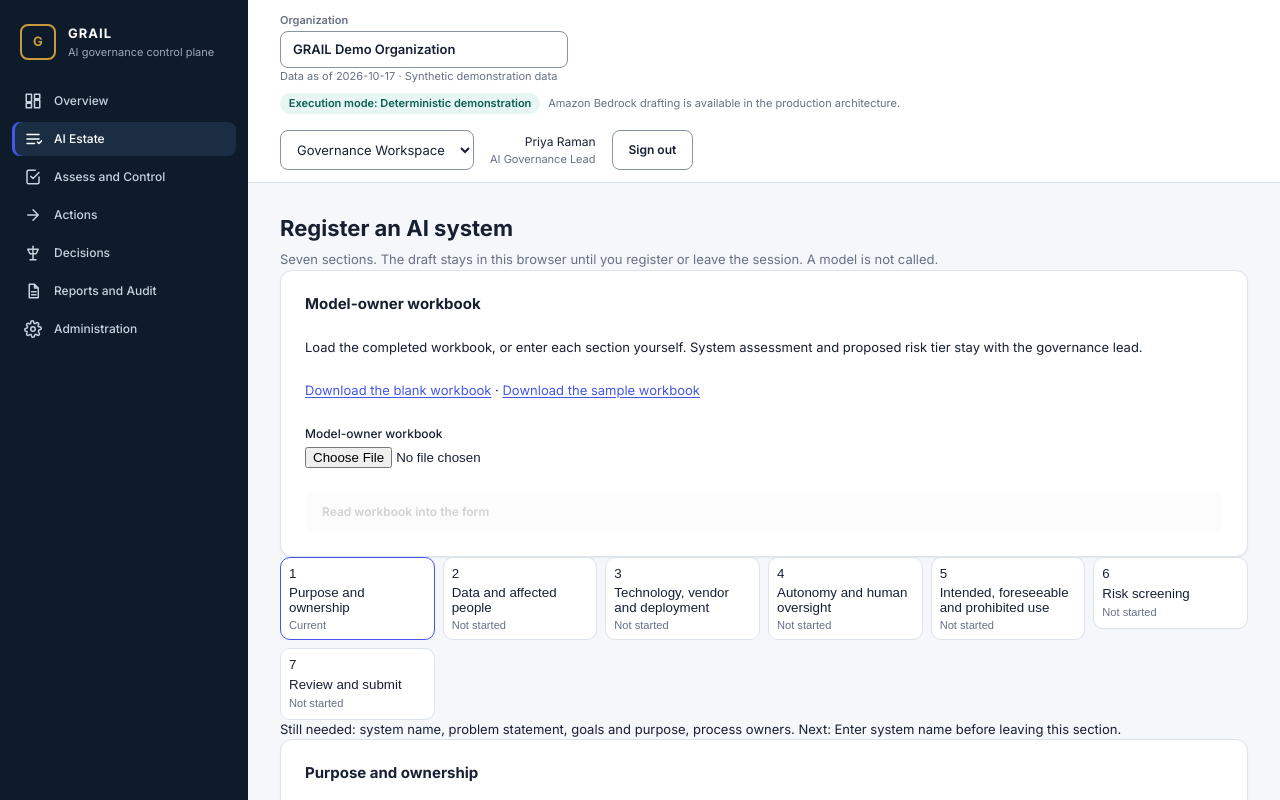
register AI system › keeps the lead classification locked until the intake fields are filled
The image size is (1280, 800).
Expected: the list named "Registration progress" is shown, [280, 556, 1248, 720]
Expected: the radio button labelled "Workflow Automation System" is not shown
Click the button "6 Risk screening Not started" at (1171, 592), box [1093, 556, 1248, 628]
(page scrolled)
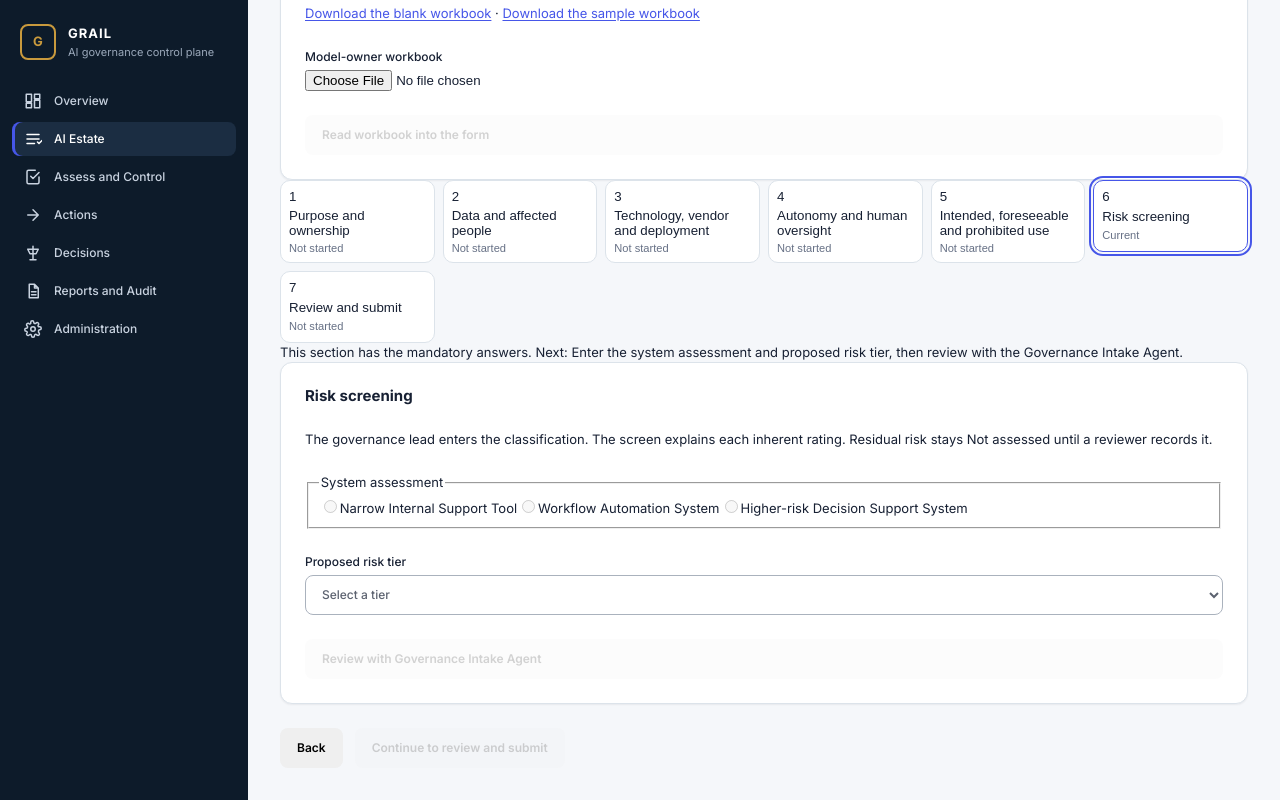
Expected: the radio button labelled "Workflow Automation System" is disabled, [522, 500, 535, 513]
Expected: the dropdown labelled "Proposed risk tier" is disabled, [305, 575, 1223, 615]
